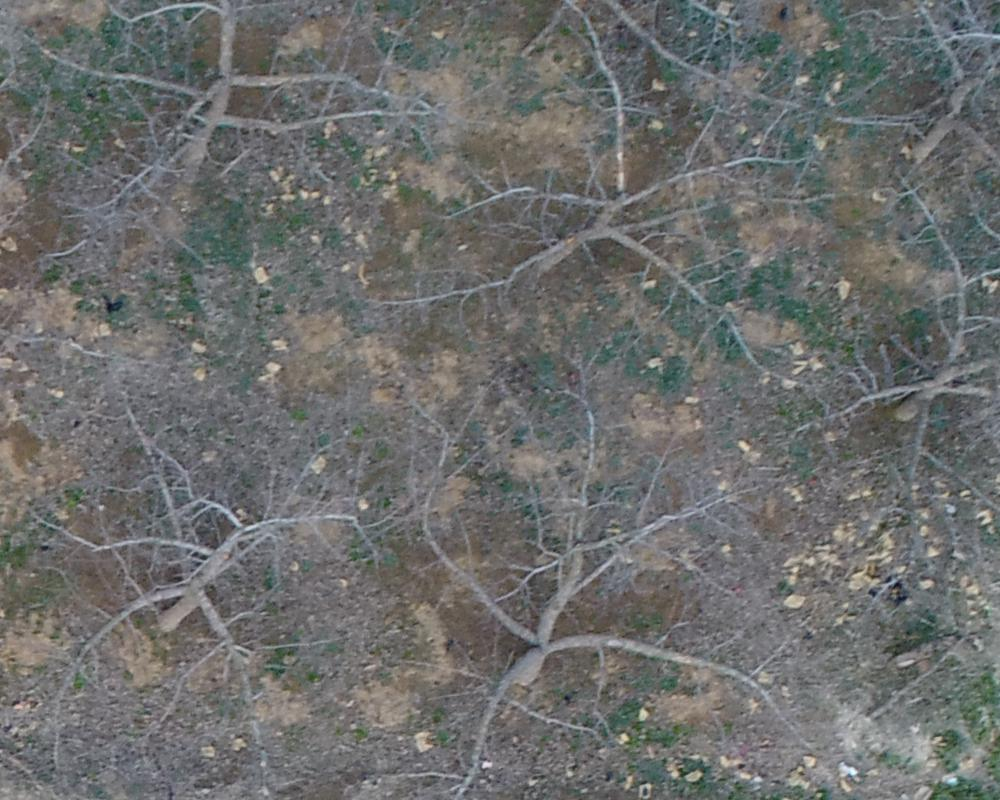apple: (419, 397, 821, 790), (28, 391, 394, 692), (431, 108, 831, 375), (75, 10, 416, 239), (800, 191, 990, 508)
